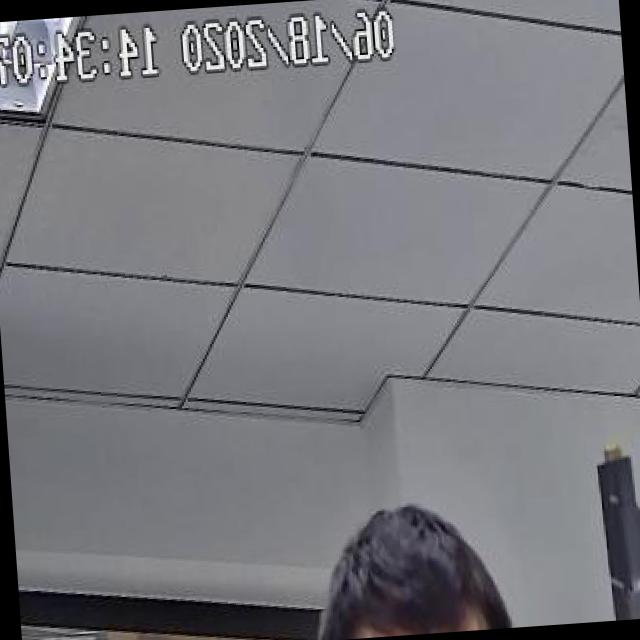Guns: (565, 419, 640, 622)
